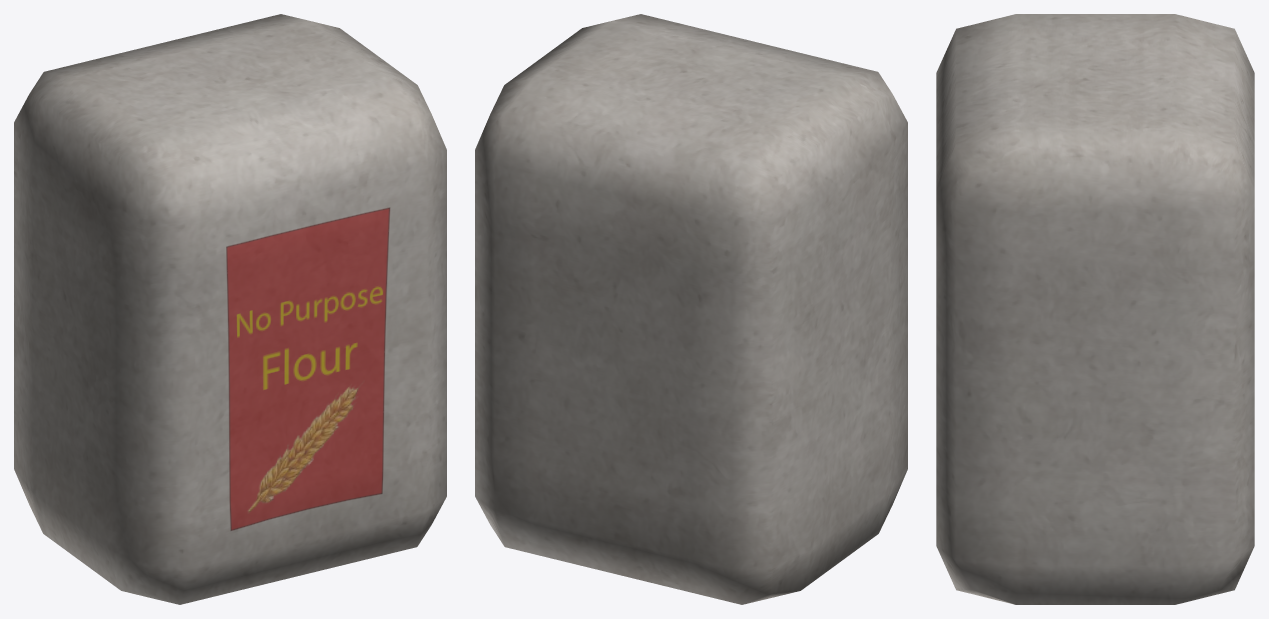
The model's file is Flour.fbx.
3 views of the same model, side by side, from view 1: azimuth 30°, elevation 25°; view 2: azimuth 150°, elevation 25°; view 3: azimuth 270°, elevation 25° (orthographic). The views are drawn at different scales.
Visible parts, largest first — view 1: Flour; view 2: Flour; view 3: Flour.
Boxes of the visible parts, left/top/right/bottom form: Flour: left=14, top=14, right=446, bottom=604; Flour: left=475, top=14, right=907, bottom=604; Flour: left=936, top=14, right=1254, bottom=604.
Bounding box in the file's own units: 0.249 × 0.3476 × 0.2123.
